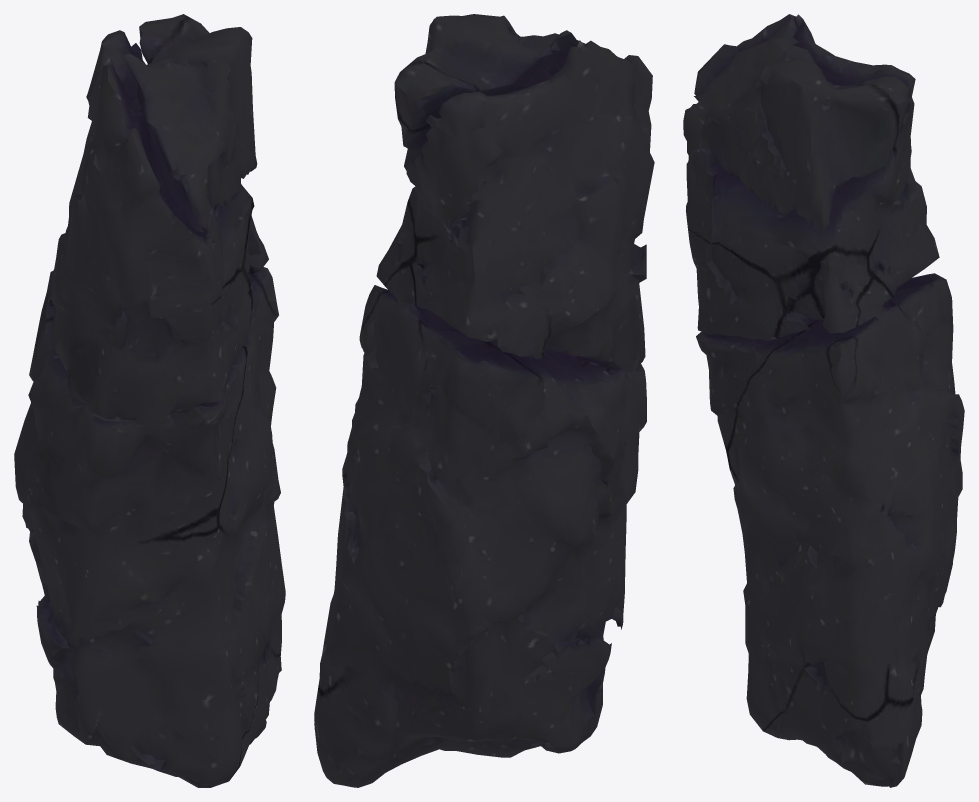
Rendered from rock-elongated-shard.glb.
3 views of the same model, side by side, from view 1: azimuth 30°, elevation 25°; view 2: azimuth 150°, elevation 25°; view 3: azimuth 270°, elevation 25° (orthographic). The views are drawn at different scales.
Parts seen in each view (by area): view 1: Rock_C_ElongatedShard; view 2: Rock_C_ElongatedShard; view 3: Rock_C_ElongatedShard.
Part boxes in pixels (x1,y1,x2,y2): Rock_C_ElongatedShard: (14,14,285,787); Rock_C_ElongatedShard: (314,14,654,787); Rock_C_ElongatedShard: (683,14,964,787).
Bounding box in the file's own units: 0.5765 × 1.57 × 0.5783.
1 material, 1 textured.
